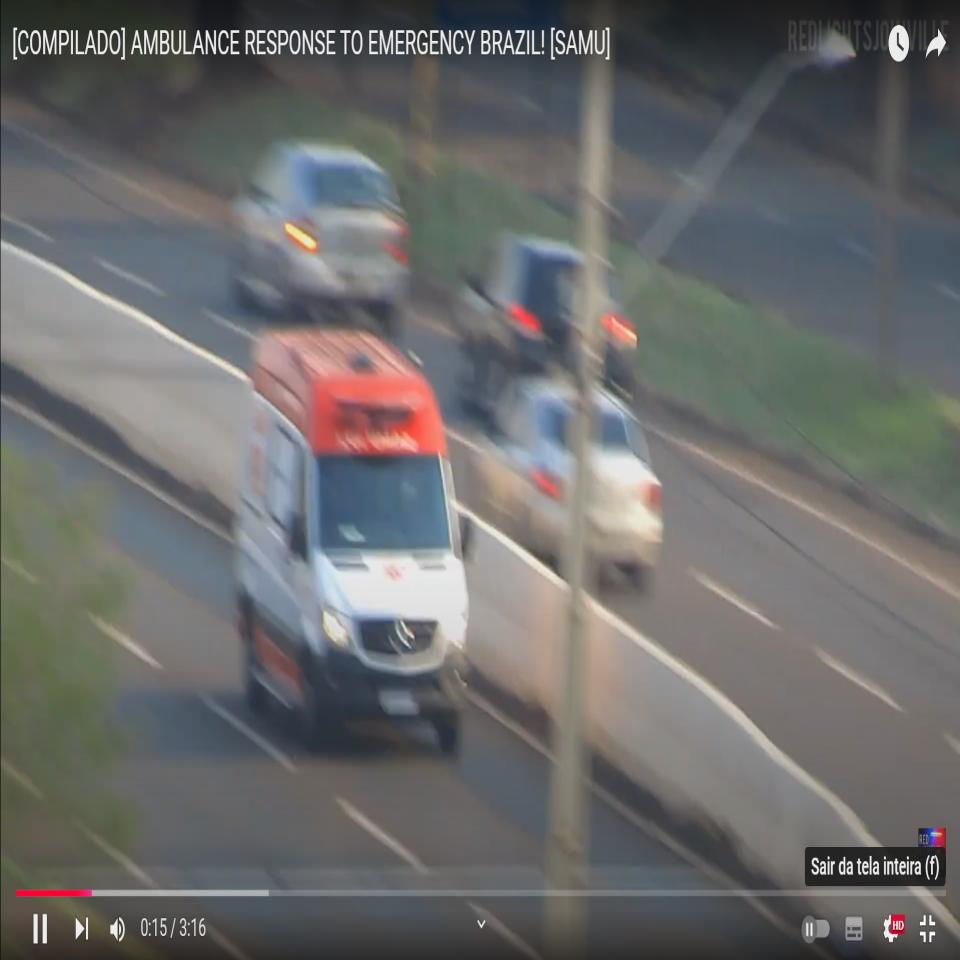bombeiro: (233, 318, 477, 759)
